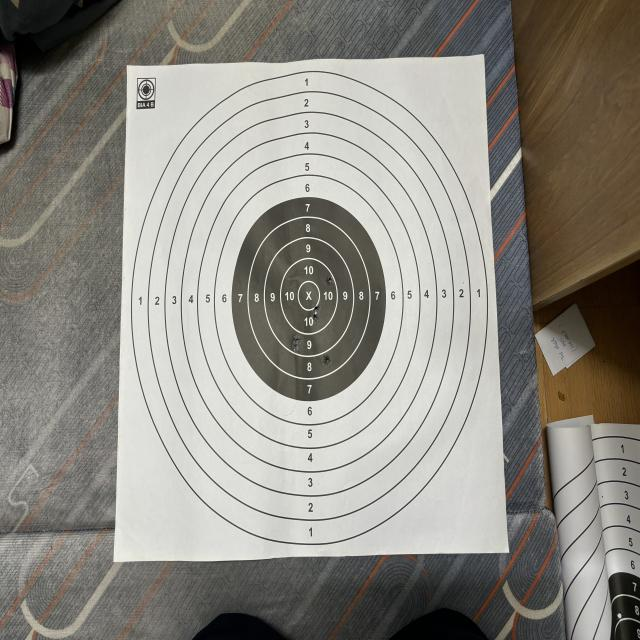bullet: (293, 336, 300, 347), (324, 276, 332, 284), (312, 312, 320, 320), (294, 343, 299, 352), (324, 356, 328, 364), (314, 306, 318, 311)
target: (114, 55, 509, 561)
